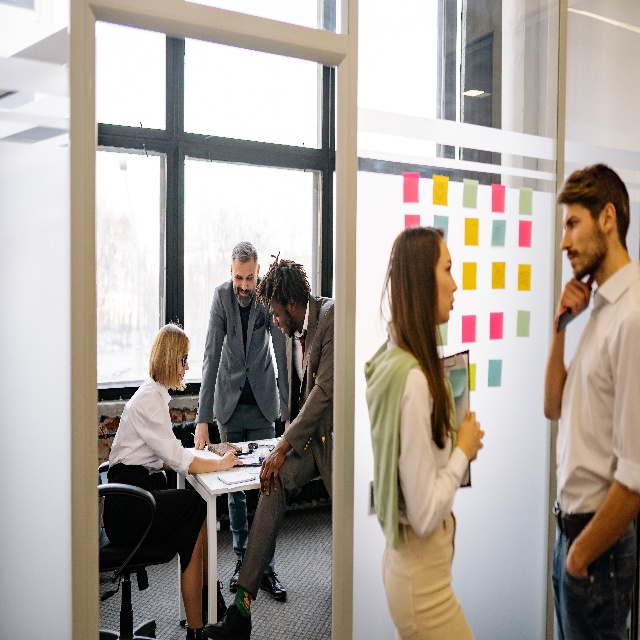Gafas: (182, 353, 189, 368)
Sin_guantes: (258, 442, 285, 496), (457, 408, 485, 459), (558, 273, 591, 311), (564, 539, 588, 580), (194, 424, 213, 452), (220, 451, 243, 472)
